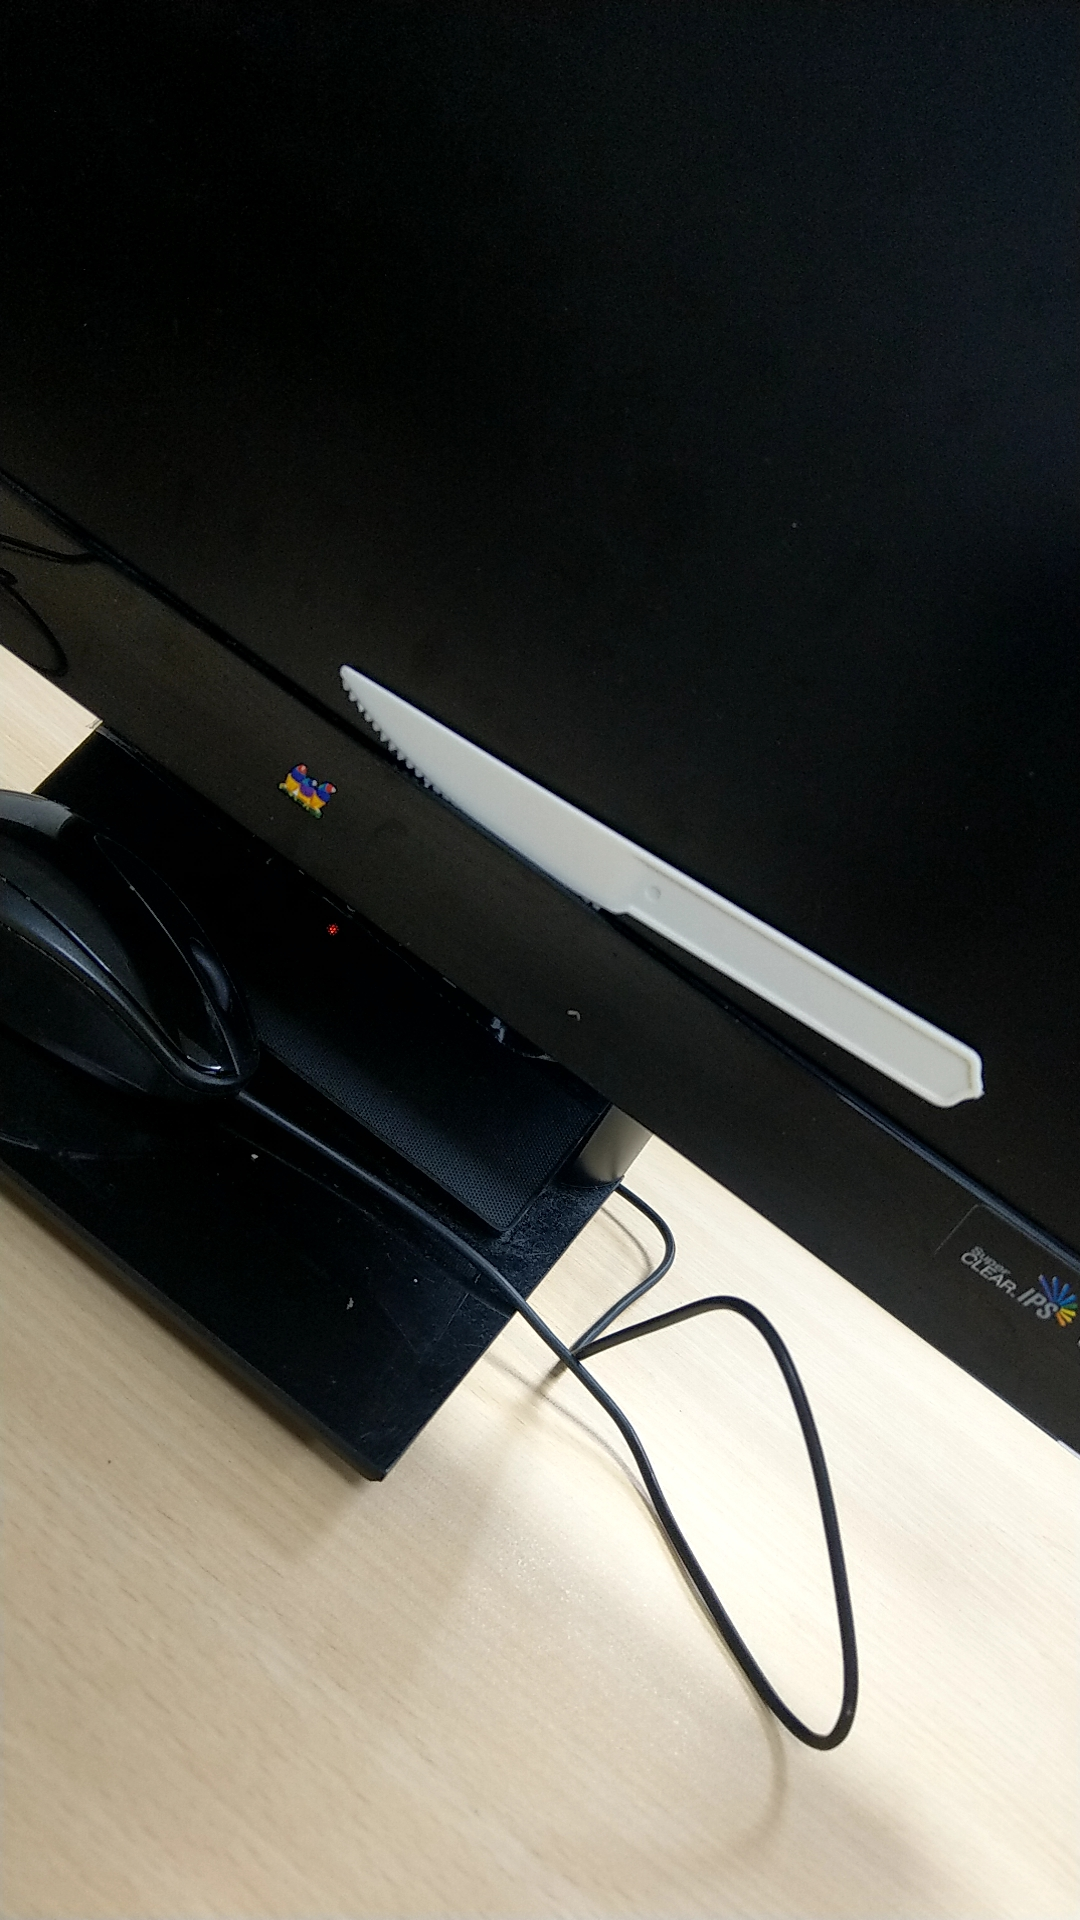knife: (342, 611, 986, 1135)
